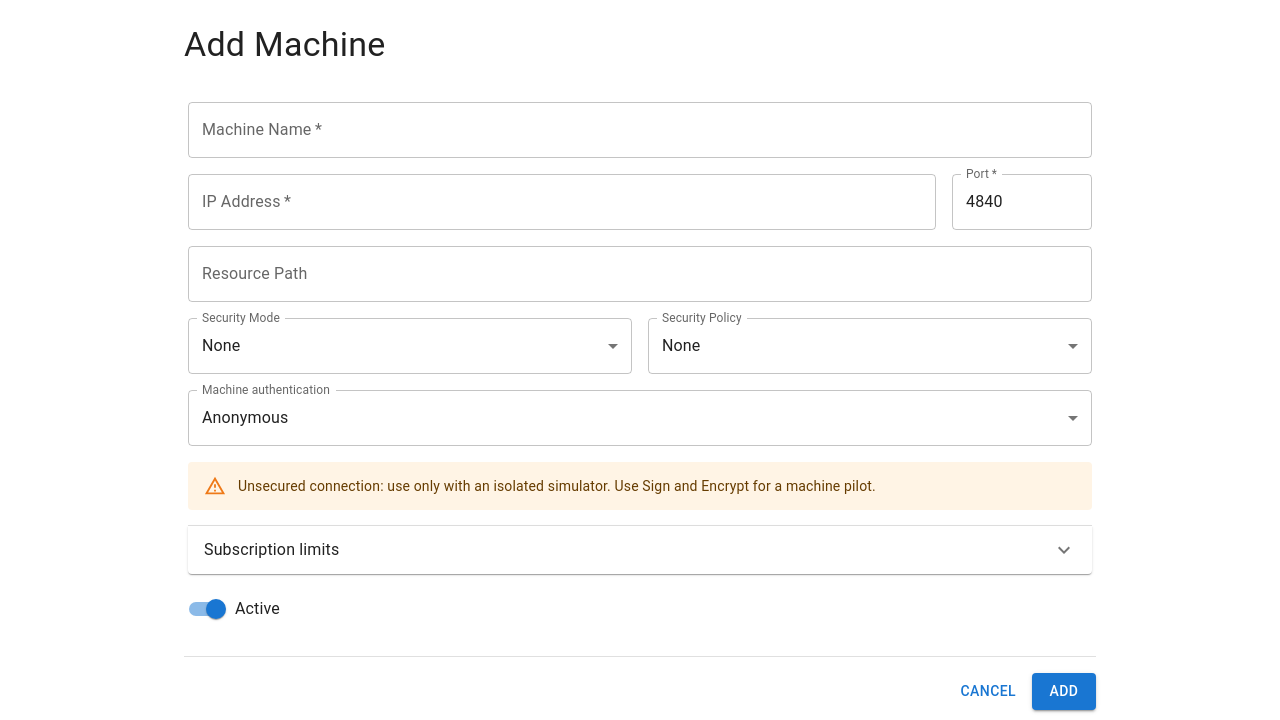
requires name and IP and reports a server save failure
Click the button "Add" at (1064, 691), box [1032,673,1096,710]
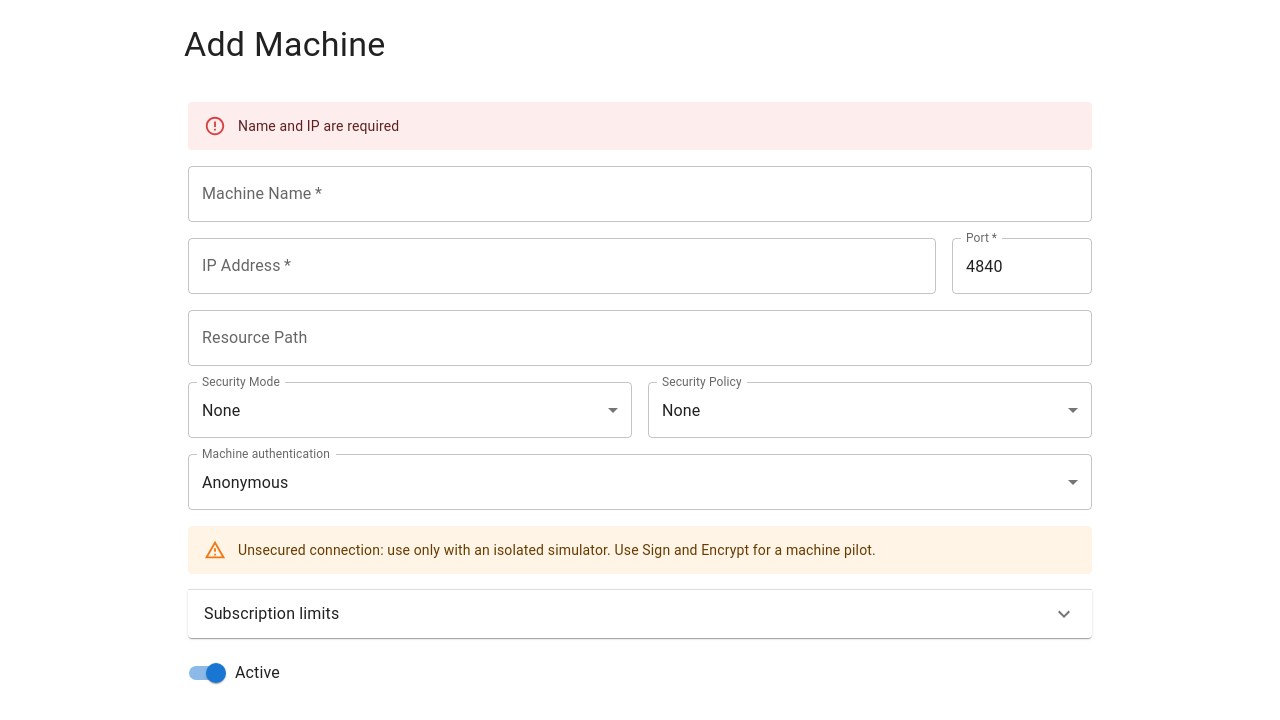
Expected: the text "Name and IP are required" is shown, [238,118,399,134]
Type "Line A" into the field labelled "Machine Name *" at (640, 194), box [188,166,1092,222]
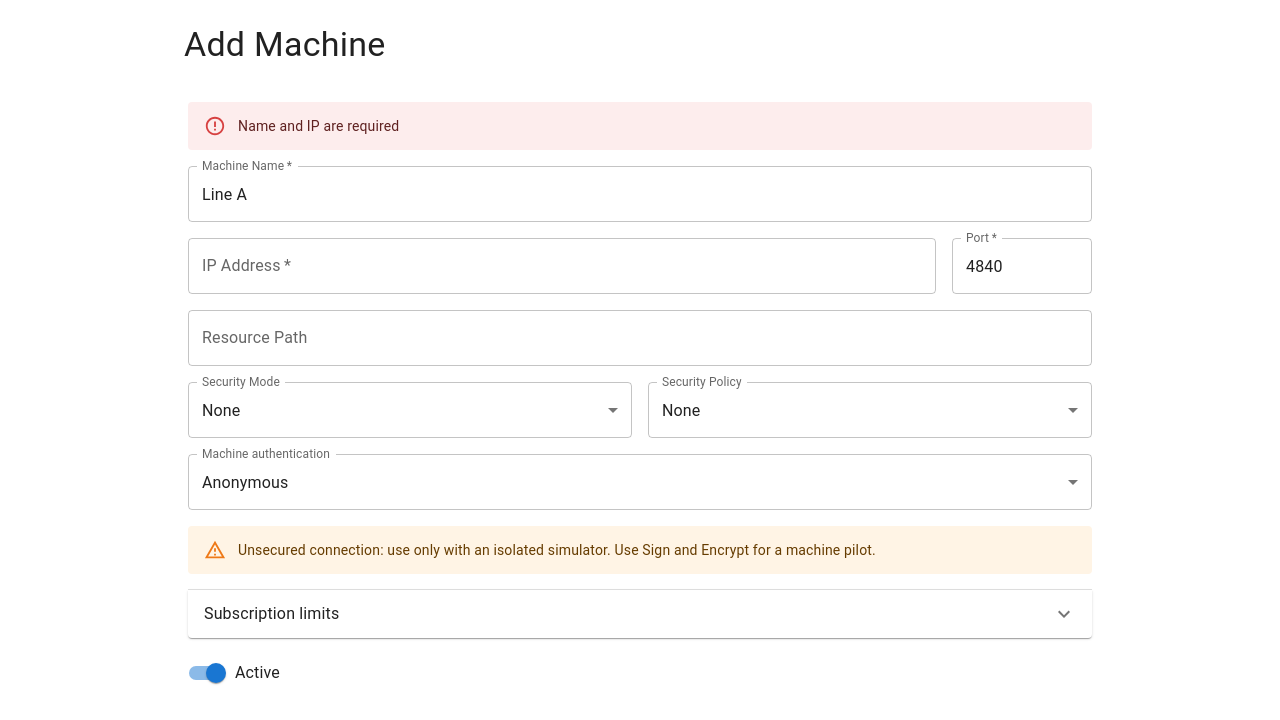
Type "localhost" into the field labelled "IP Address *" at (562, 266), box [188,238,936,294]
(page scrolled)
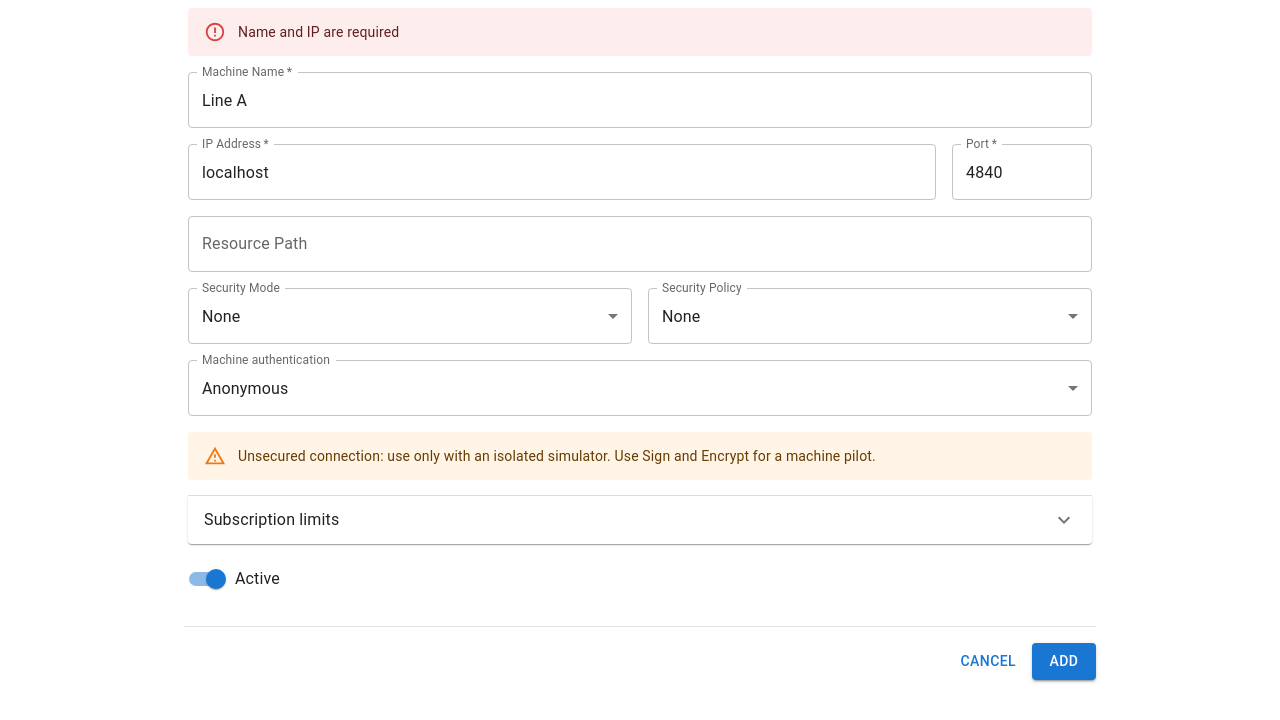
Click the button "Add" at (1064, 661), box [1032,643,1096,680]
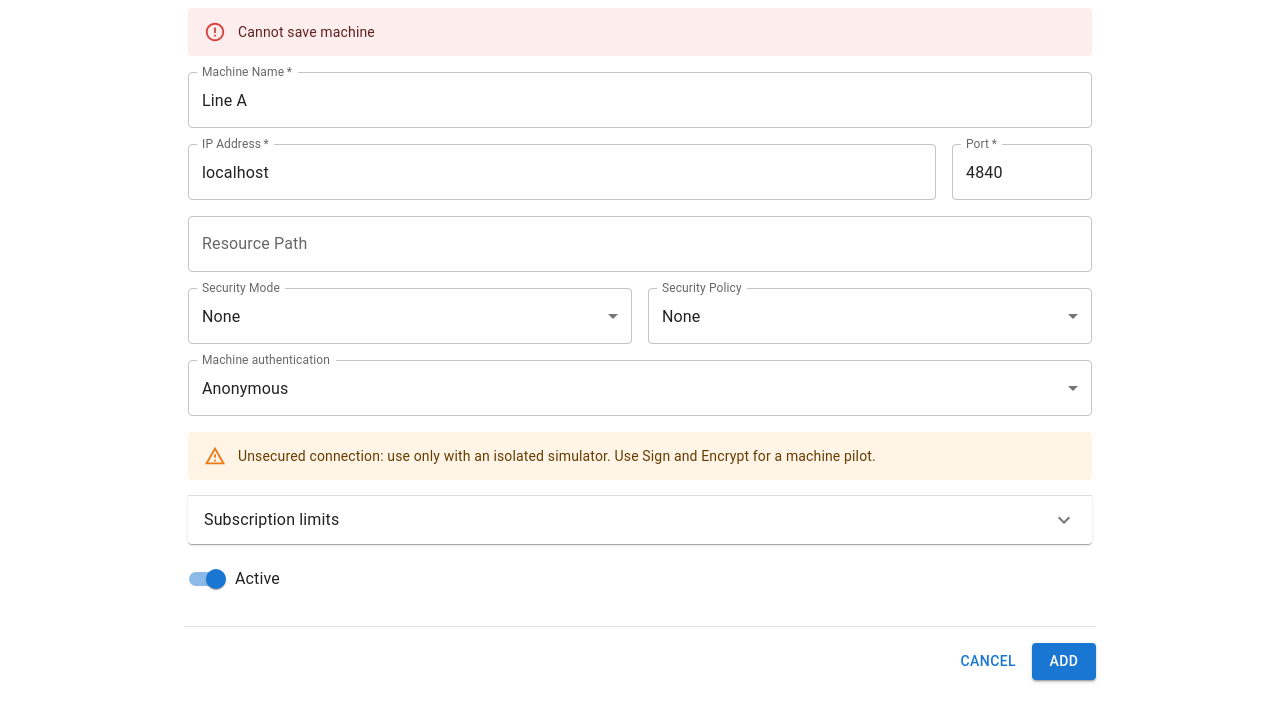
Expected: the text "Cannot save machine" is shown, [238,24,375,40]
